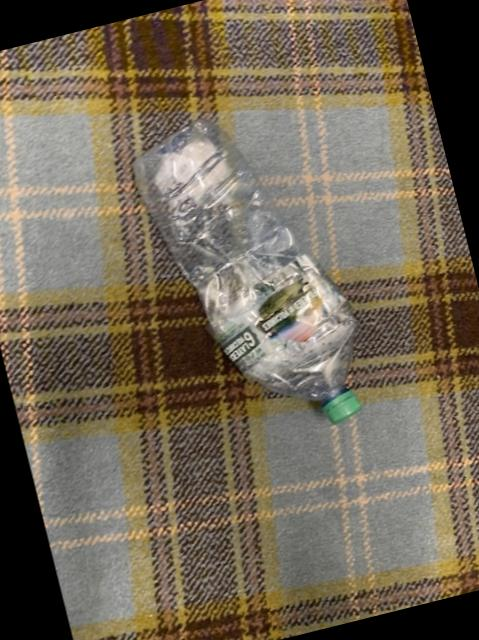plastic: (131, 118, 358, 421)
